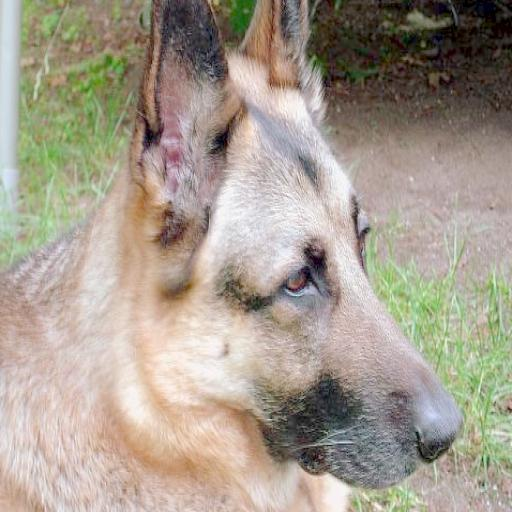dog_face: (141, 0, 463, 485)
